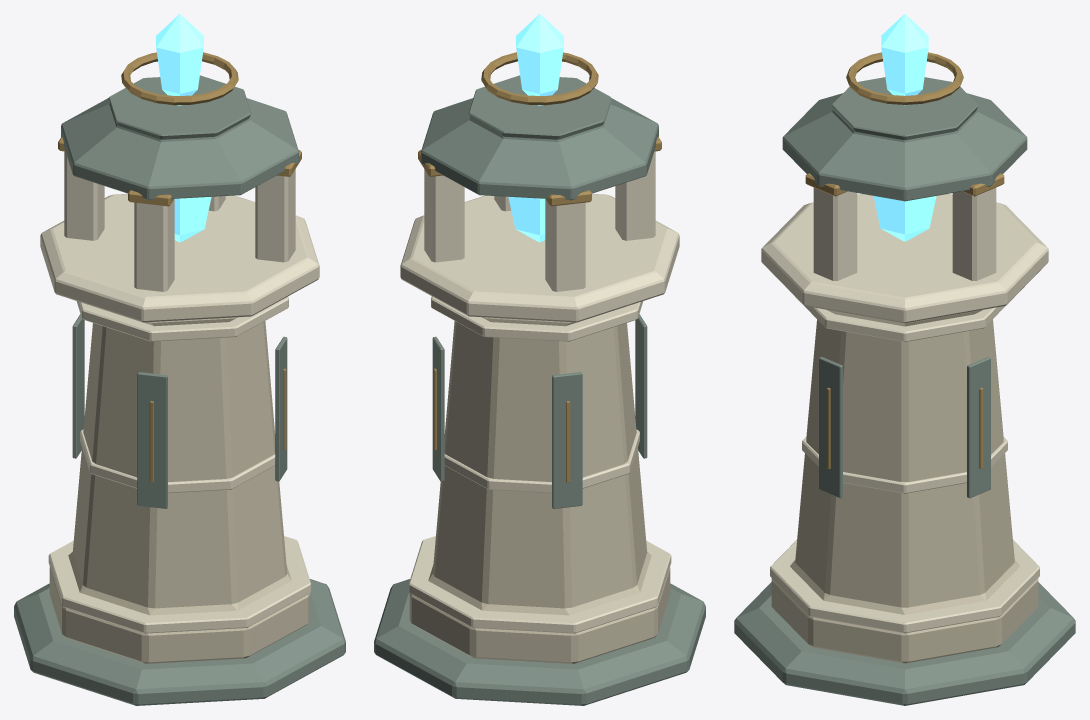
File: watchtower_blue.glb
3 renders of one model, left to right at view 1: azimuth 30°, elevation 25°; view 2: azimuth 150°, elevation 25°; view 3: azimuth 270°, elevation 25°, orthographic.
Visible parts, largest first — view 1: watchtower_blue / mesh; view 2: watchtower_blue / mesh; view 3: watchtower_blue / mesh.
Part boxes in pixels (x1,y1,x2,y2): watchtower_blue / mesh: (14, 14, 345, 705); watchtower_blue / mesh: (374, 14, 705, 705); watchtower_blue / mesh: (734, 14, 1075, 705).
Size of the model in its own units: 5.96 by 11.97 by 5.96.
